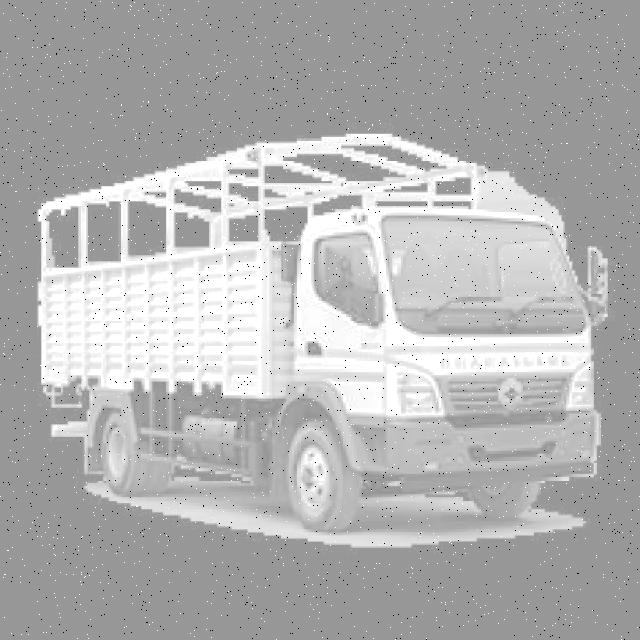HCV: (35, 194, 607, 511)
